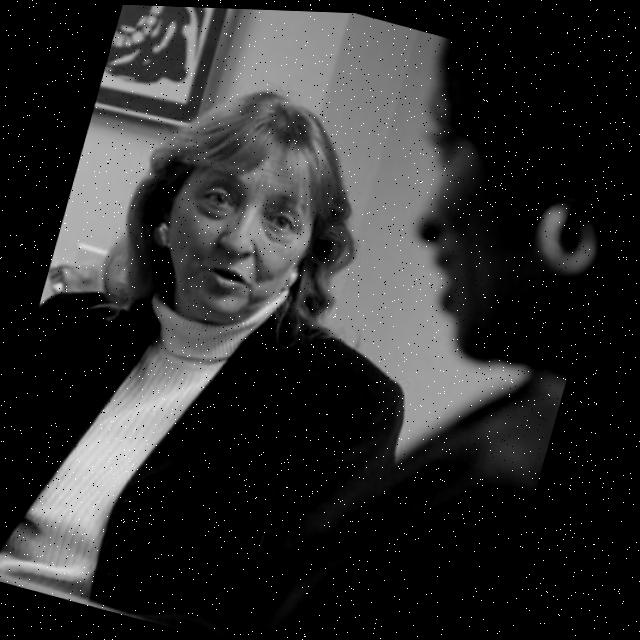face: (351, 61, 600, 377), (130, 91, 354, 340)
